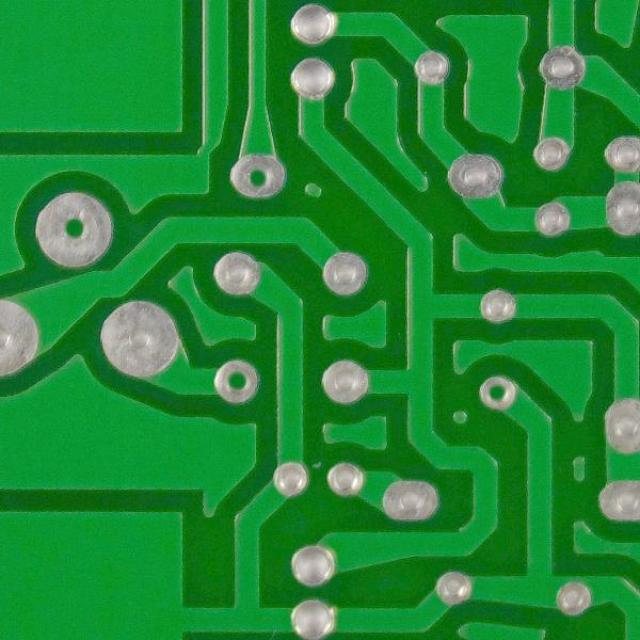Missing_Hole: (30, 187, 119, 273), (224, 150, 290, 204), (209, 352, 264, 409), (474, 372, 520, 414)
